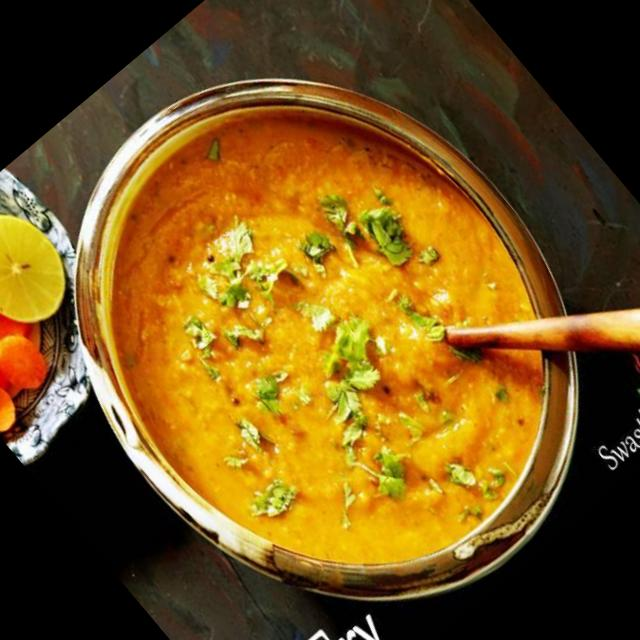dal: (12, 21, 634, 640)
